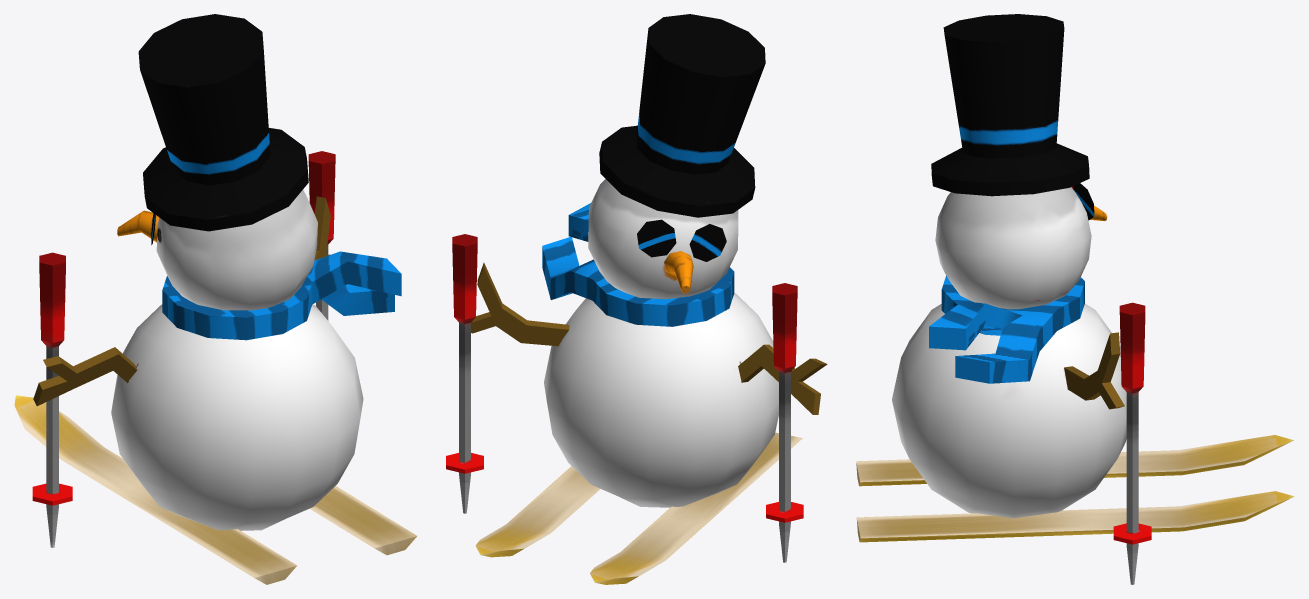
The model's file is Snow_man1.fbx.
The picture shows the model from 3 angles, left to right: view 1: azimuth 30°, elevation 25°; view 2: azimuth 150°, elevation 25°; view 3: azimuth 270°, elevation 25°; orthographic projection. The views are drawn at different scales.
Parts seen in each view (by area): view 1: SnowMan1; view 2: SnowMan1; view 3: SnowMan1.
Part boxes in pixels (box(x1,y1,x2,y2)): SnowMan1: box(14, 14, 416, 584); SnowMan1: box(446, 14, 827, 584); SnowMan1: box(856, 14, 1294, 584).
Size of the model in its own units: 1.84 by 2.54 by 2.09.
Materials: 1 (1 with a texture image).
